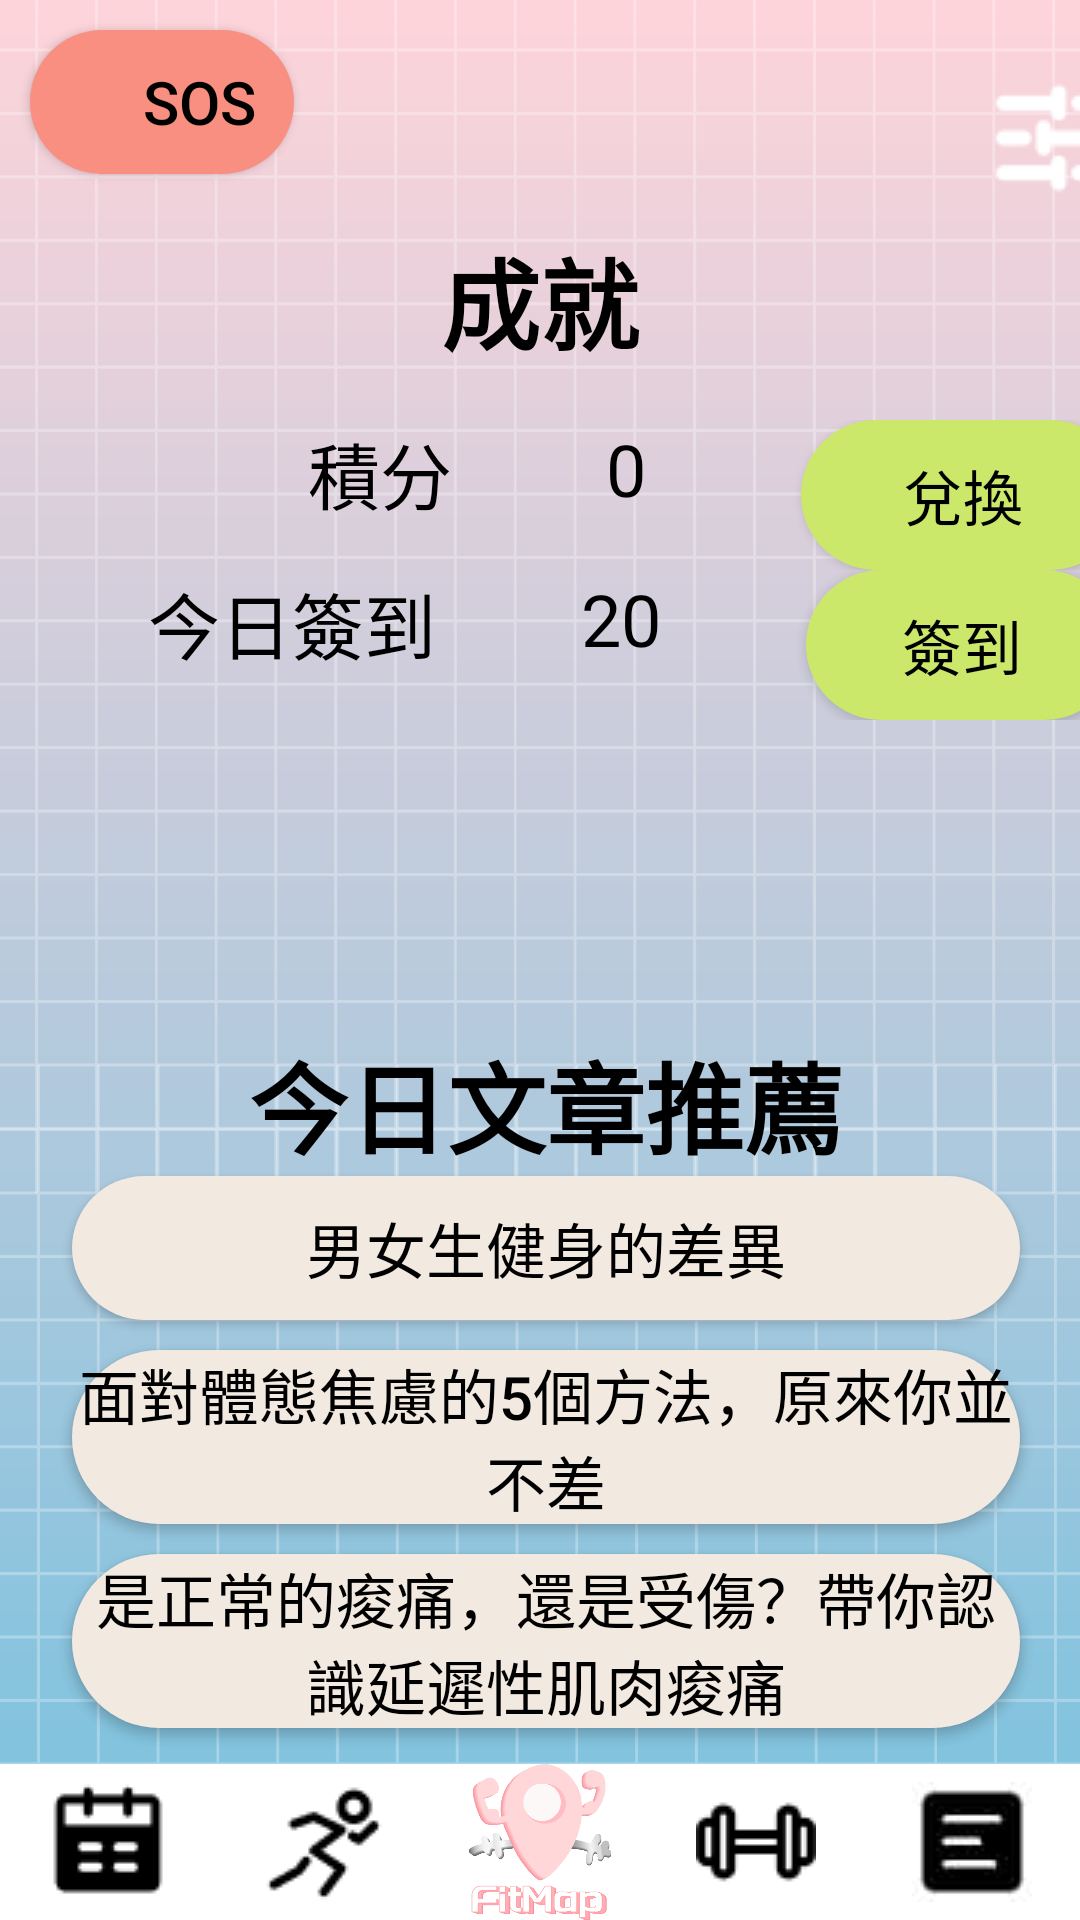

Where icons sit on this 1080px×1920px app screen, as (x1, y1, x2, y2):
article: (920, 1790, 1024, 1894)
reservation: (53, 1786, 163, 1894)
run: (268, 1787, 380, 1897)
